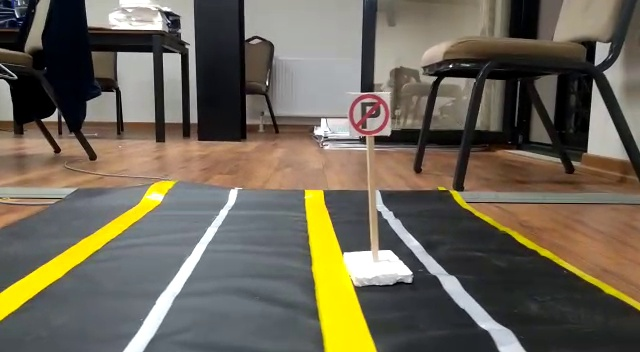park_yapilmaz: (346, 90, 389, 139)
